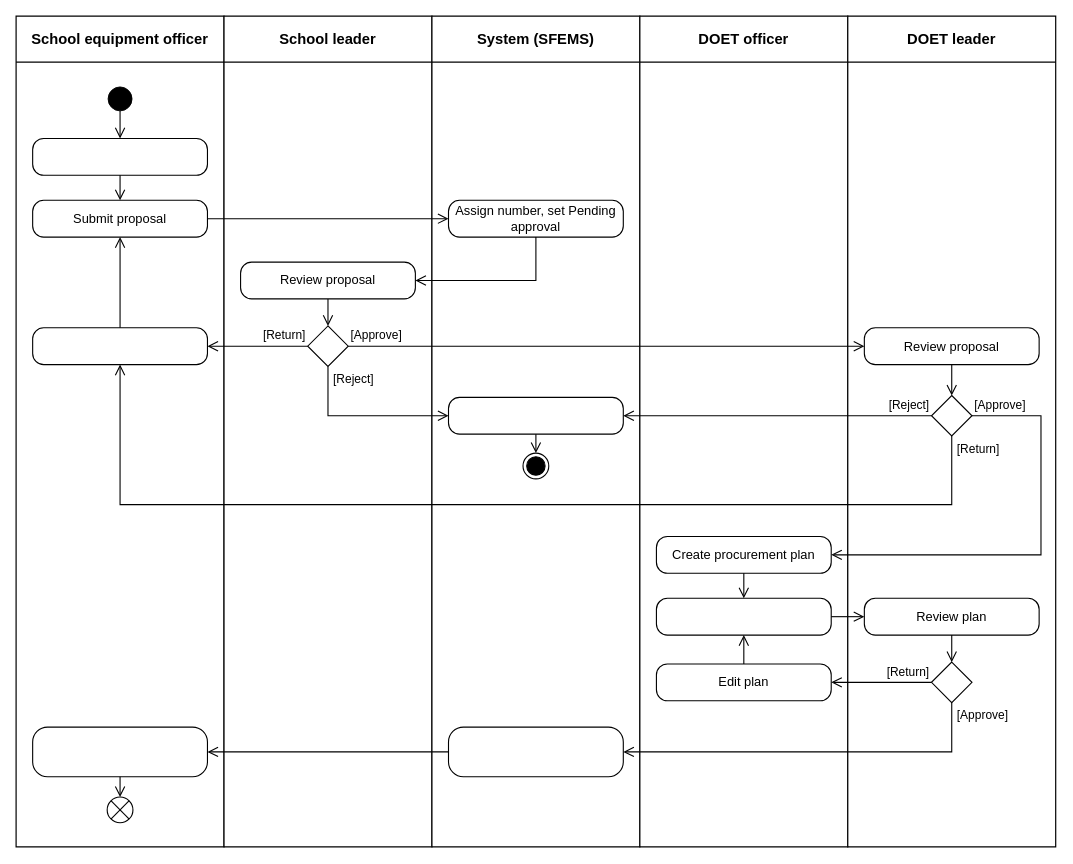
Image size: 1073x864. Some labels were removed from this diagram. The shapes that lost their labels are listed below. From the top down, each one's centre as x and y in pixels, then its label:
At (x=120, y=156): "Create procurement proposal".
At (x=120, y=346): "Edit proposal".
At (x=535, y=415): "Stop proposal".
At (x=743, y=616): "Submit plan".
At (x=120, y=751): "Create receipt form when equipment arrives (to BF-02)".
At (x=535, y=751): "Proposals in the plan: Completed".
